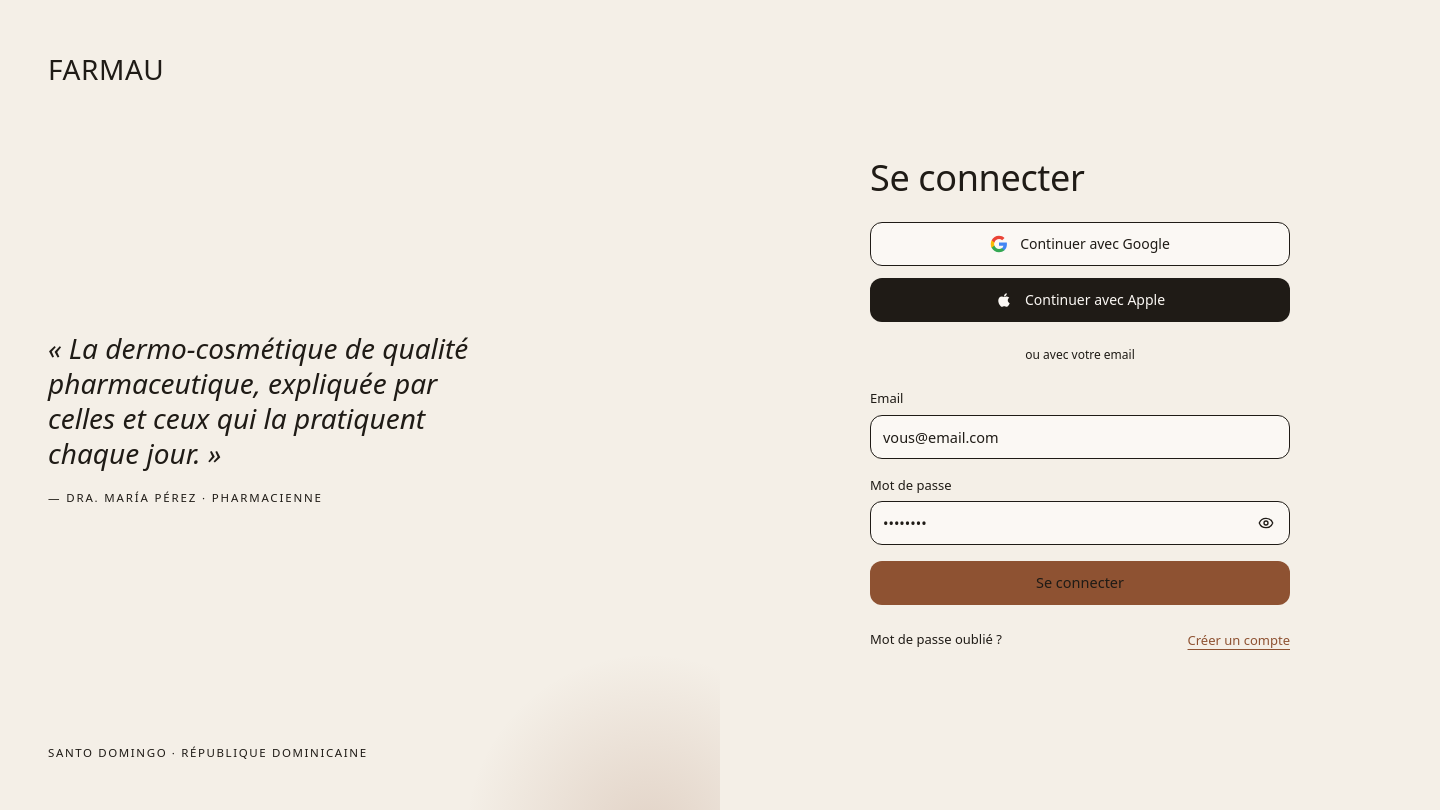
Authentication Tests › Login Page › affiche les erreurs Supabase lors de la connexion
In the field labelled "Email": (1080, 436) x1=870 y1=414 x2=1290 y2=458, type "test@example.com"
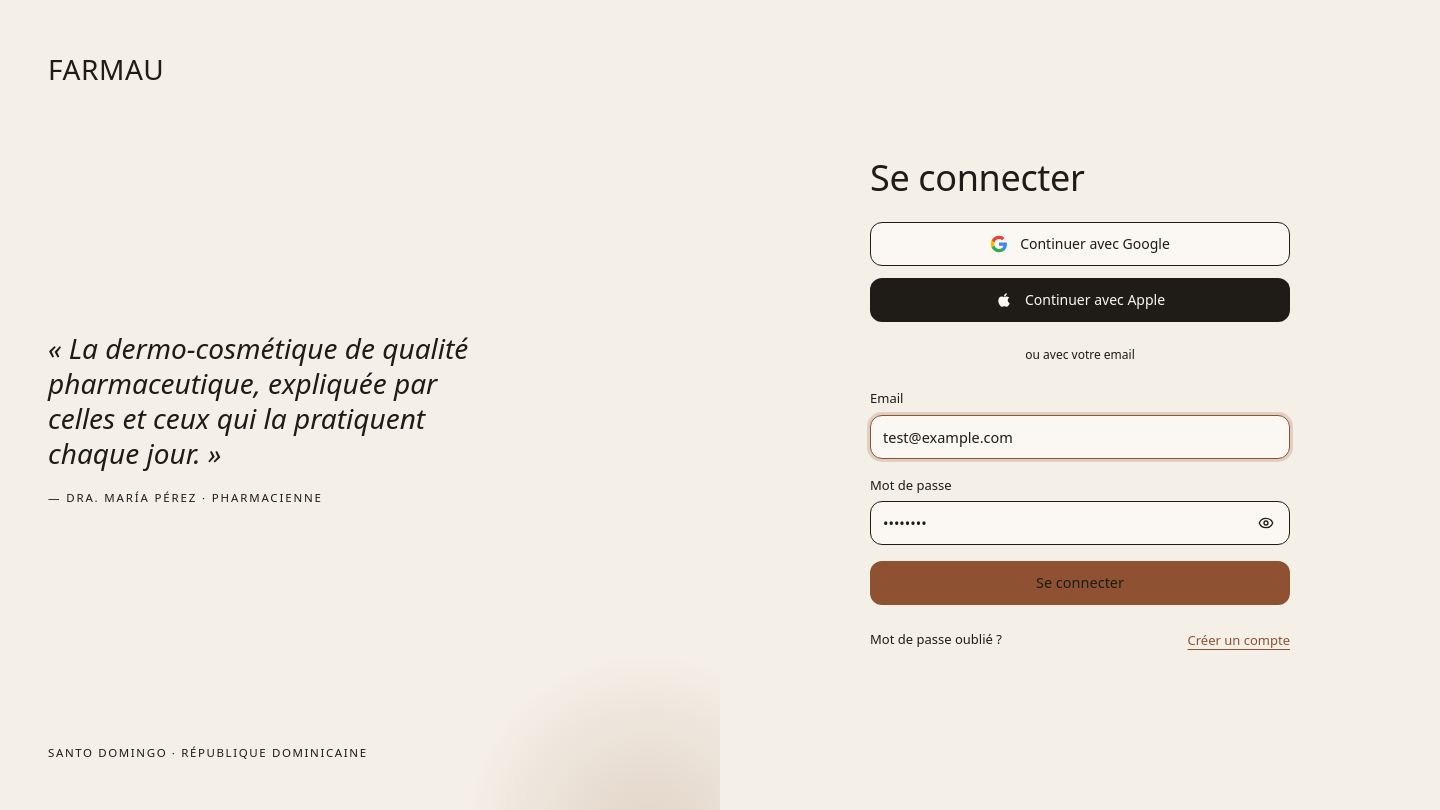
In the password field labelled "Mot de passe": (1080, 523) x1=870 y1=501 x2=1290 y2=545, type "wrongpassword"
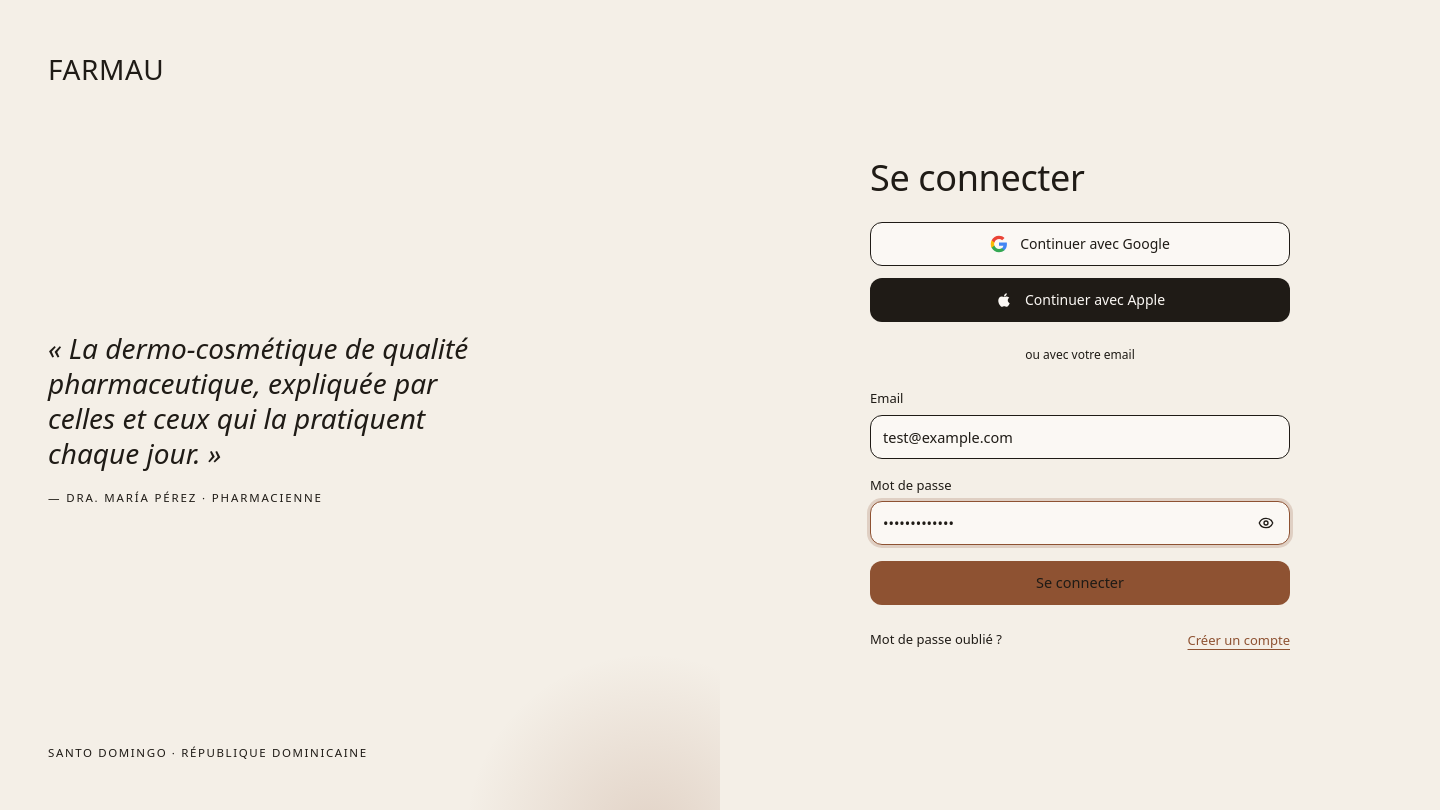
Click the button "Se connecter": (1080, 583) x1=870 y1=561 x2=1290 y2=605
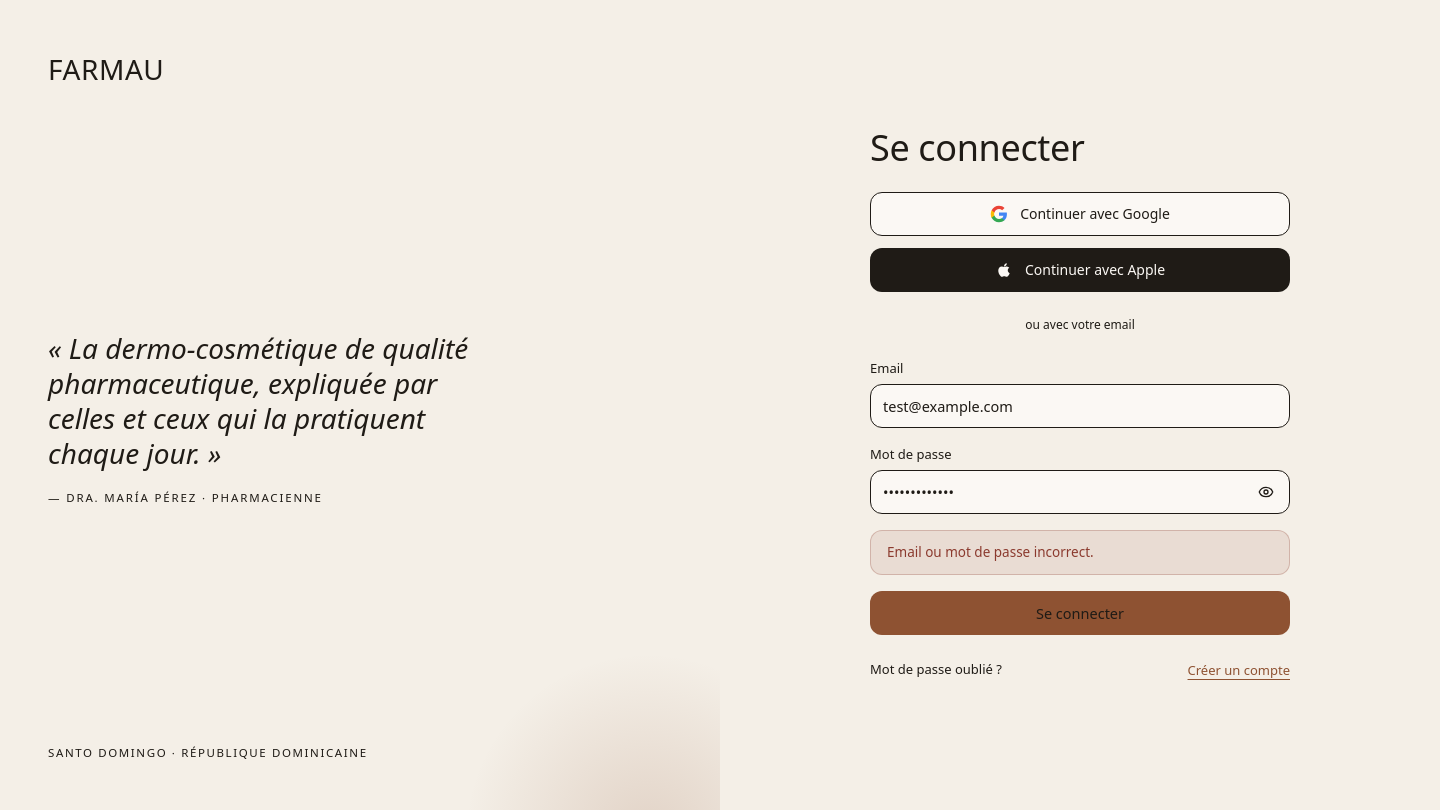
Result: the text "Email ou mot de passe incorrect." is shown at x1=870 y1=530 x2=1290 y2=575
